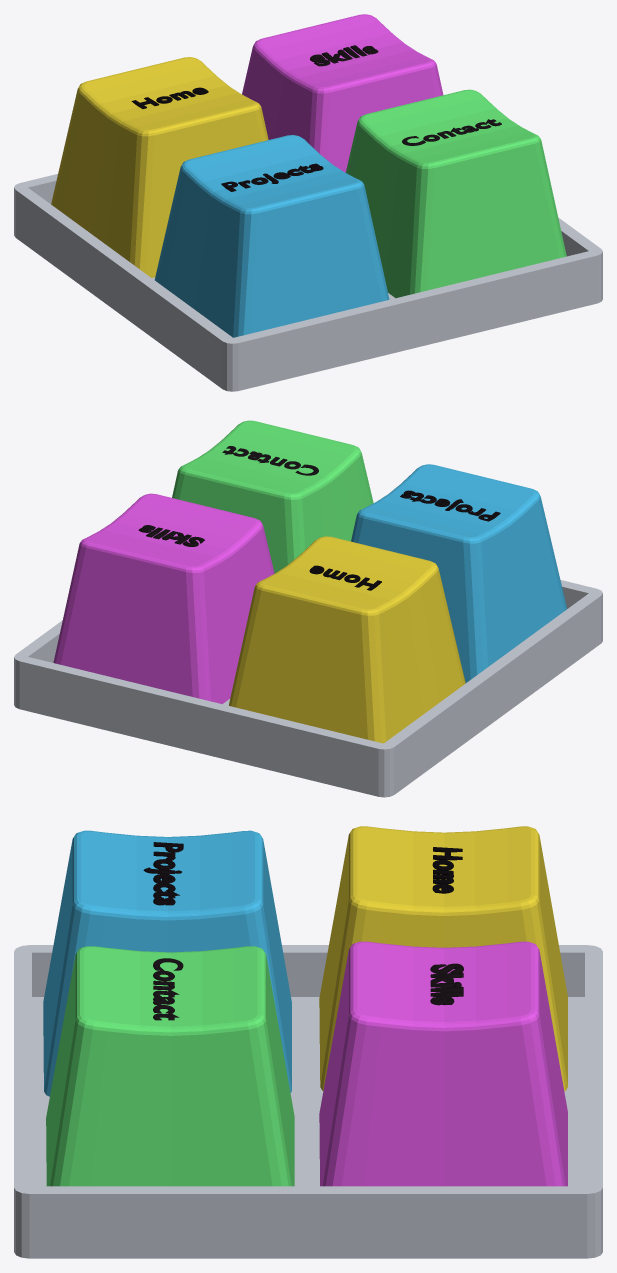
The model's file is Keys_1.glb.
3 renders of one model, top to bottom at view 1: azimuth 30°, elevation 25°; view 2: azimuth 150°, elevation 25°; view 3: azimuth 270°, elevation 25°, orthographic. The views are drawn at different scales.
Visible parts, largest first — view 1: Cube.004; view 2: Cube.004; view 3: Cube.004.
Part boxes in pixels (<box>): Cube.004: <box>14,14,602,391</box>; Cube.004: <box>14,420,602,797</box>; Cube.004: <box>14,826,602,1258</box>.
Bounding box in the file's own units: 4.75 × 1.9 × 4.75.
